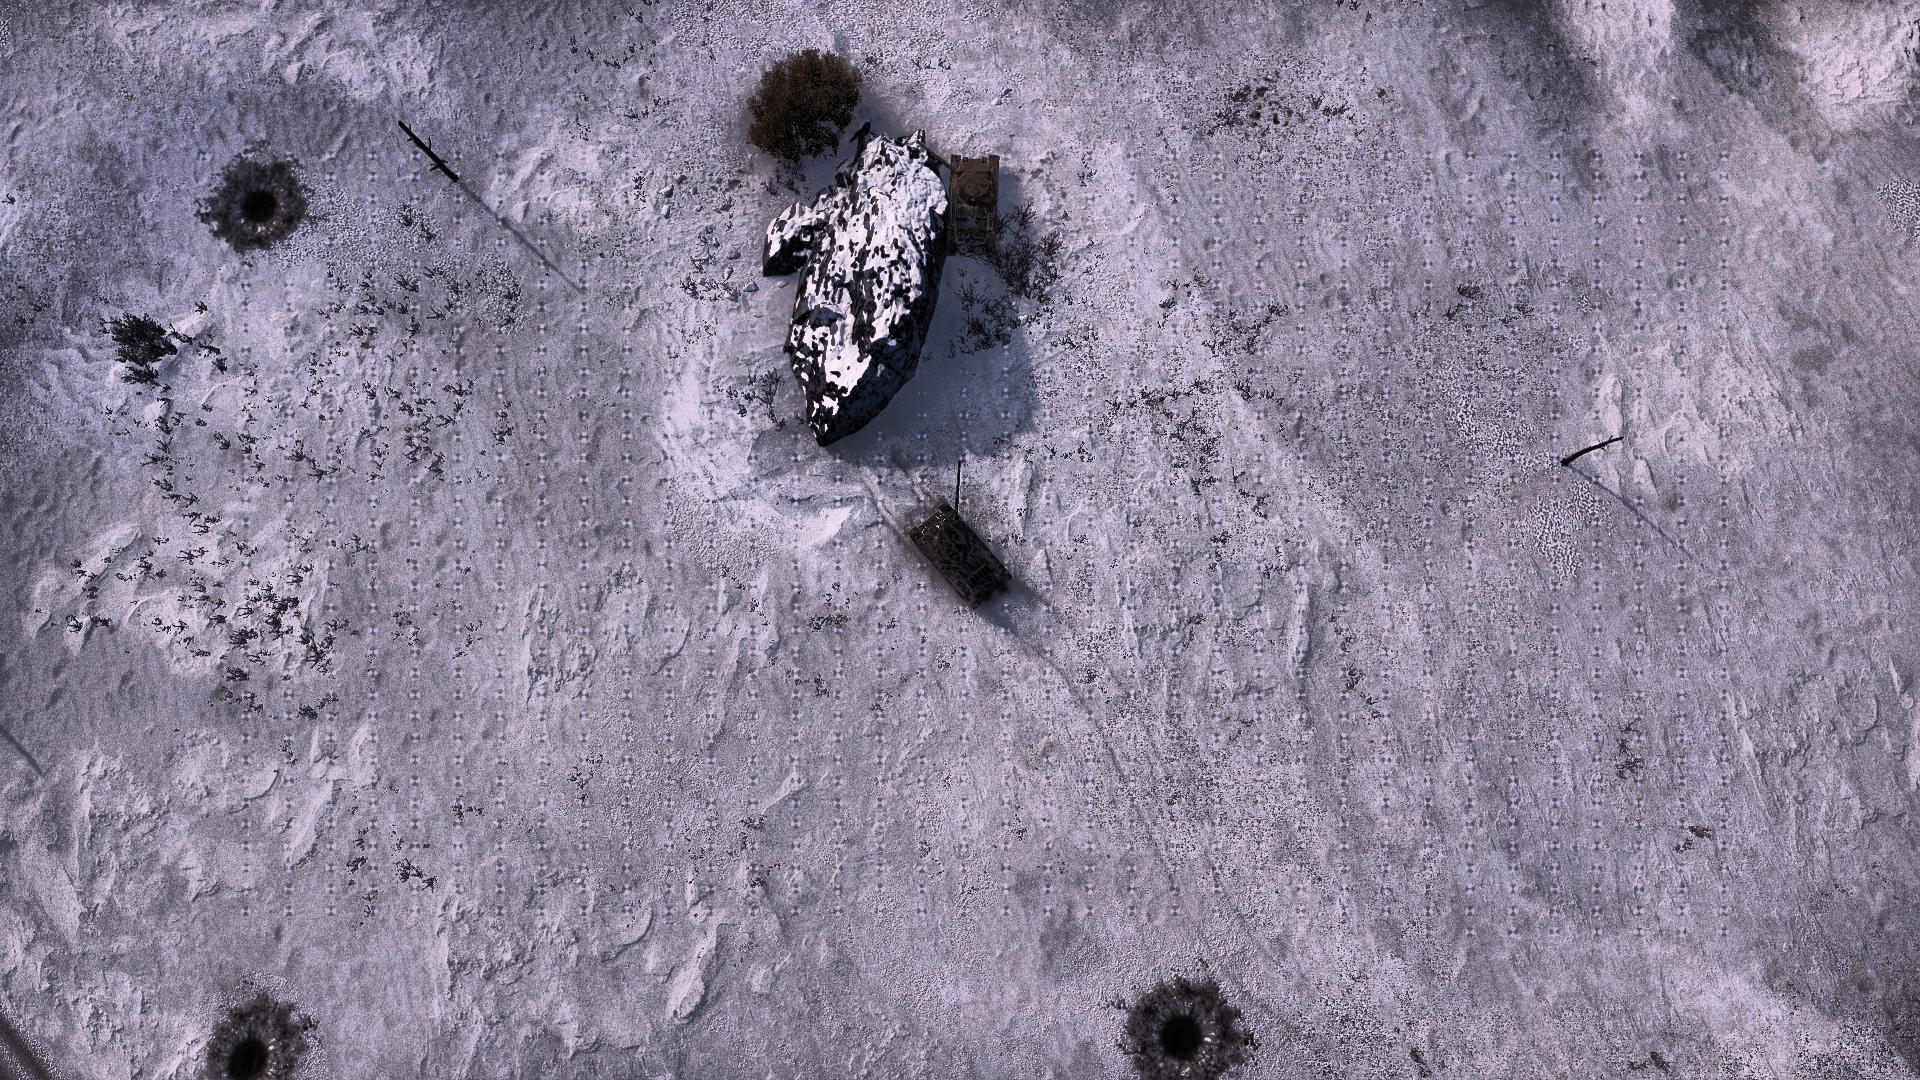military-vehicle: (910, 460, 1004, 589)
